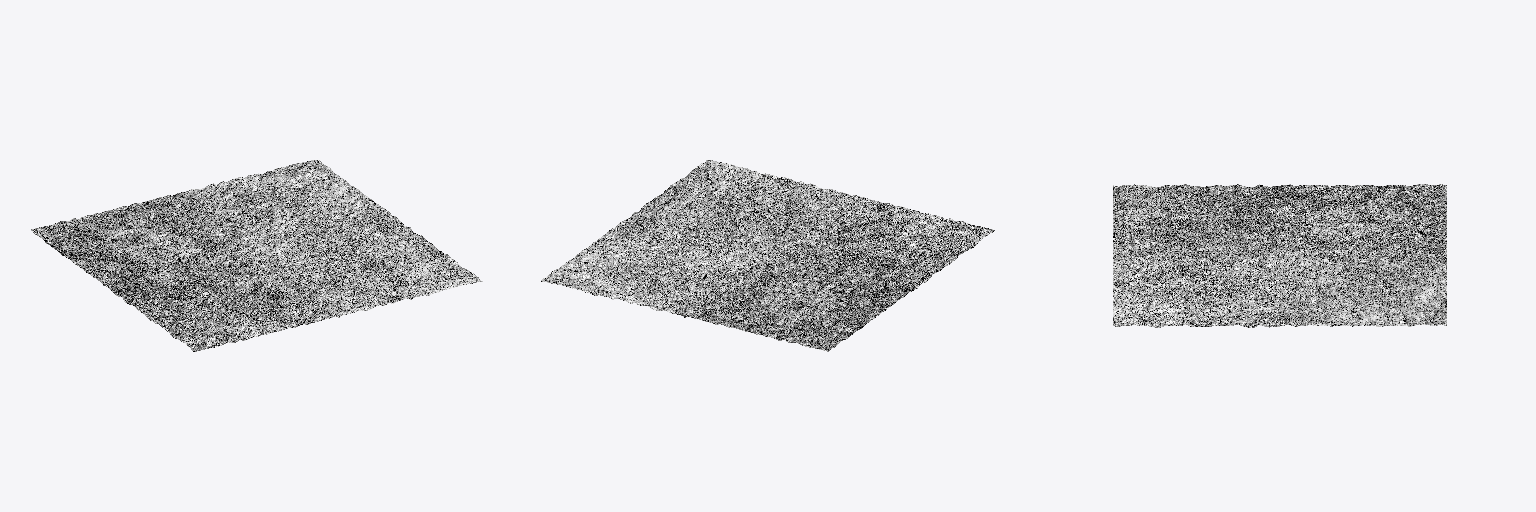
3 views of the same model, side by side, from view 1: azimuth 30°, elevation 25°; view 2: azimuth 150°, elevation 25°; view 3: azimuth 270°, elevation 25° (orthographic).
Visible parts, largest first — view 1: stoneHeight_Plane.009; view 2: stoneHeight_Plane.009; view 3: stoneHeight_Plane.009.
Part boxes in pixels (bbox=[...]): stoneHeight_Plane.009: bbox=[31, 160, 482, 351]; stoneHeight_Plane.009: bbox=[541, 160, 994, 351]; stoneHeight_Plane.009: bbox=[1113, 184, 1446, 327].
Bounding box in the file's own units: 2 × 0.025 × 2.
Materials: 1 (1 with a texture image).